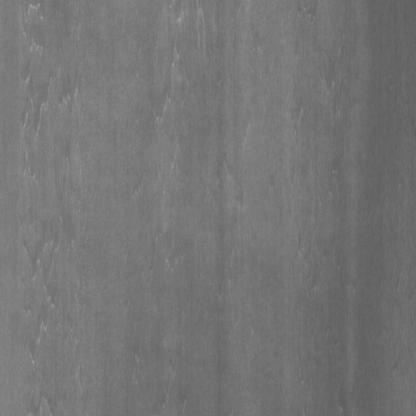silk_spot: (20, 45, 89, 368), (154, 2, 211, 216)
